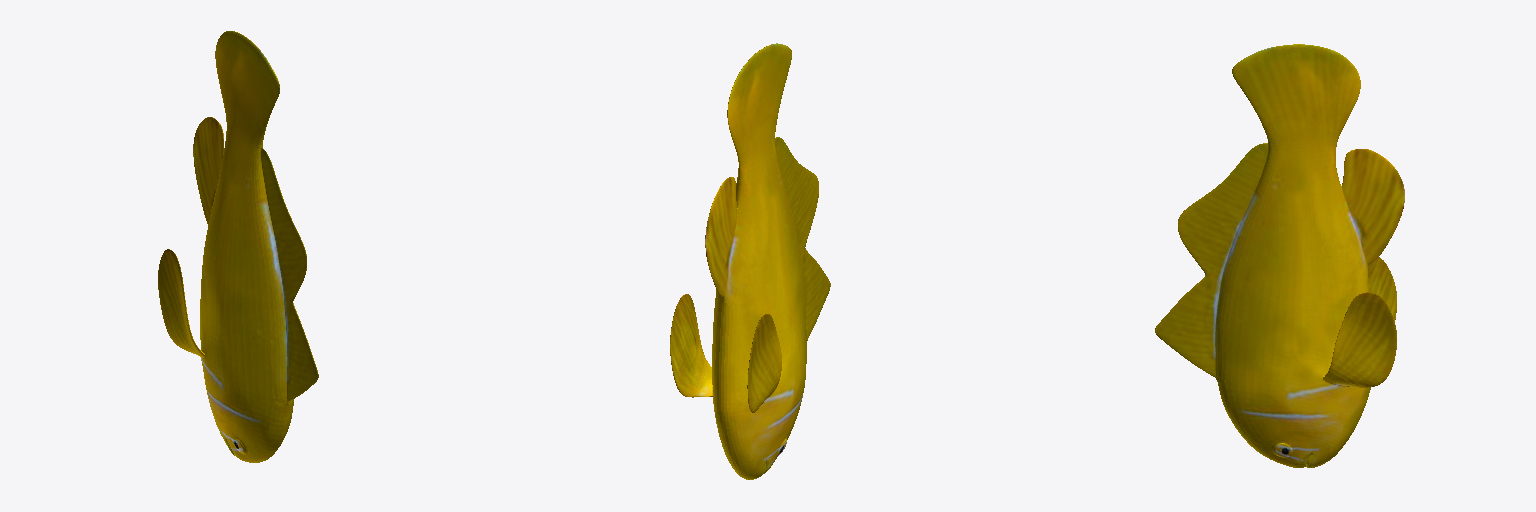
The picture shows the model from 3 angles: view 1: azimuth 30°, elevation 25°; view 2: azimuth 150°, elevation 25°; view 3: azimuth 270°, elevation 25°; orthographic projection.
Visible parts, largest first — view 1: 13008_Clown_Goby_Citrinis_v1; view 2: 13008_Clown_Goby_Citrinis_v1; view 3: 13008_Clown_Goby_Citrinis_v1.
Part boxes in pixels (bbox=[...]): 13008_Clown_Goby_Citrinis_v1: bbox=[158, 31, 318, 462]; 13008_Clown_Goby_Citrinis_v1: bbox=[670, 43, 830, 479]; 13008_Clown_Goby_Citrinis_v1: bbox=[1155, 44, 1404, 467].
Bounding box in the file's own units: 0.587 × 2.85 × 1.53.
1 materials, 1 textured.